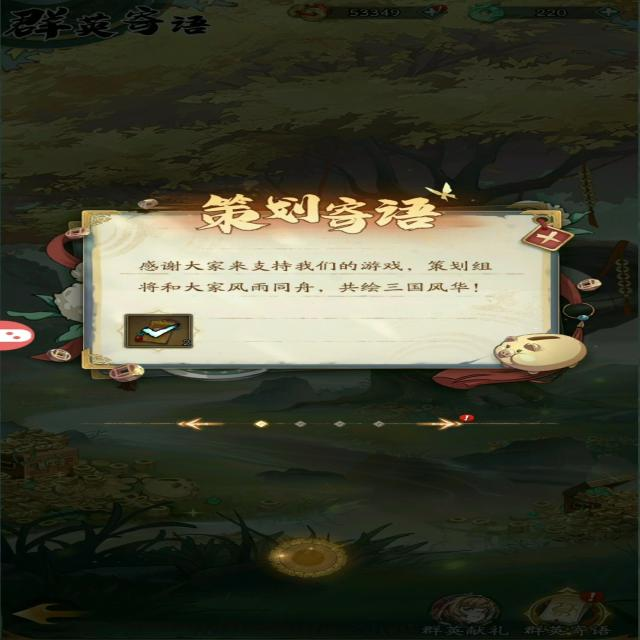hint-reddot: (446, 410, 478, 425)
operation-close: (504, 226, 590, 250)
operation-confirm-off: (110, 309, 210, 352)
operation-enter: (403, 416, 464, 434), (168, 415, 215, 438)
